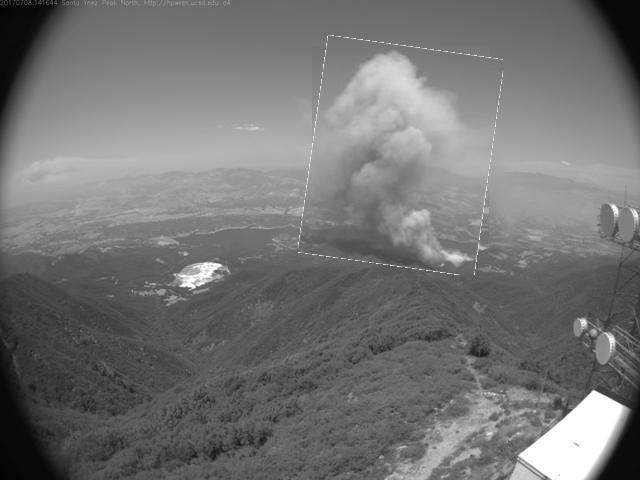smoke: (306, 42, 498, 272)
